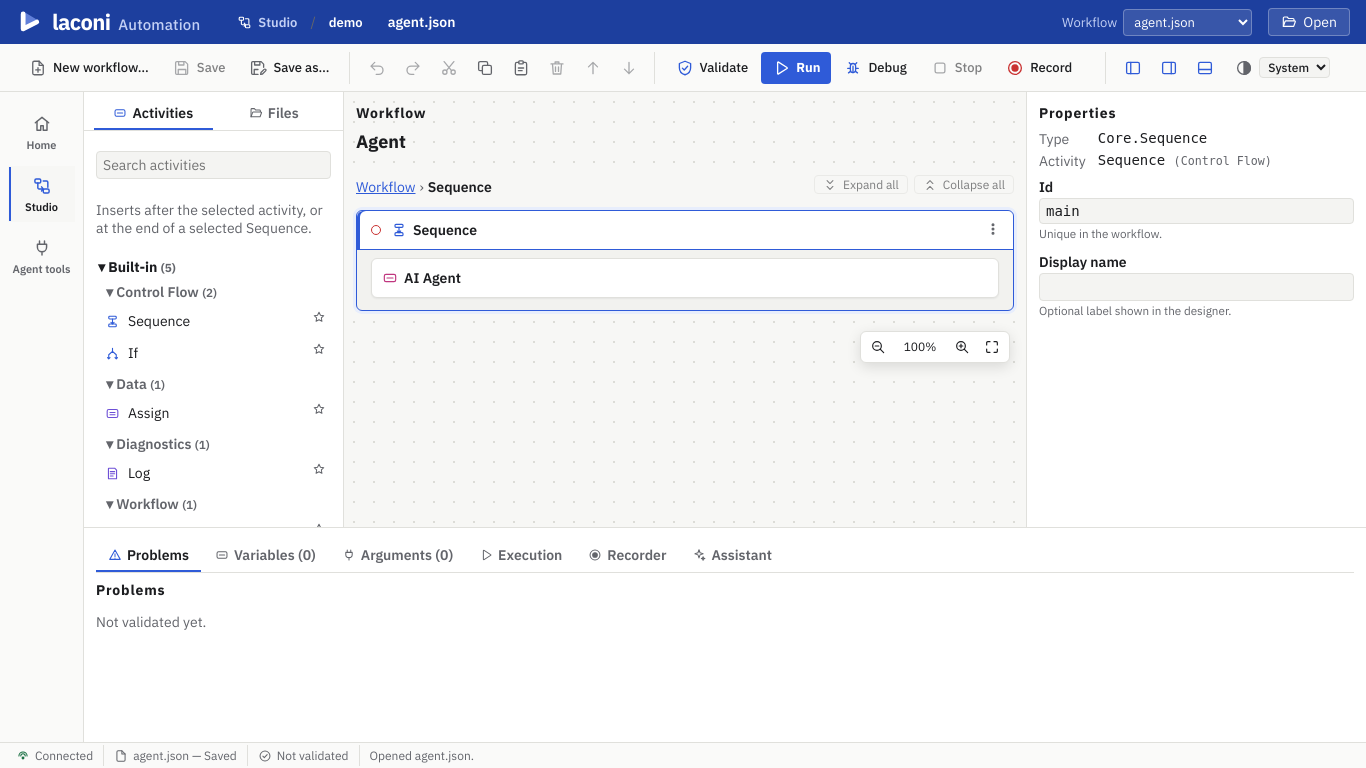
Test: Agent tools picker › does not add the same entry twice
The width and height of the screenshot is (1366, 768).
Click the element with class "node" showing "AI Agent".
click(685, 278)  # box [371,258,999,298]
(page scrolled)
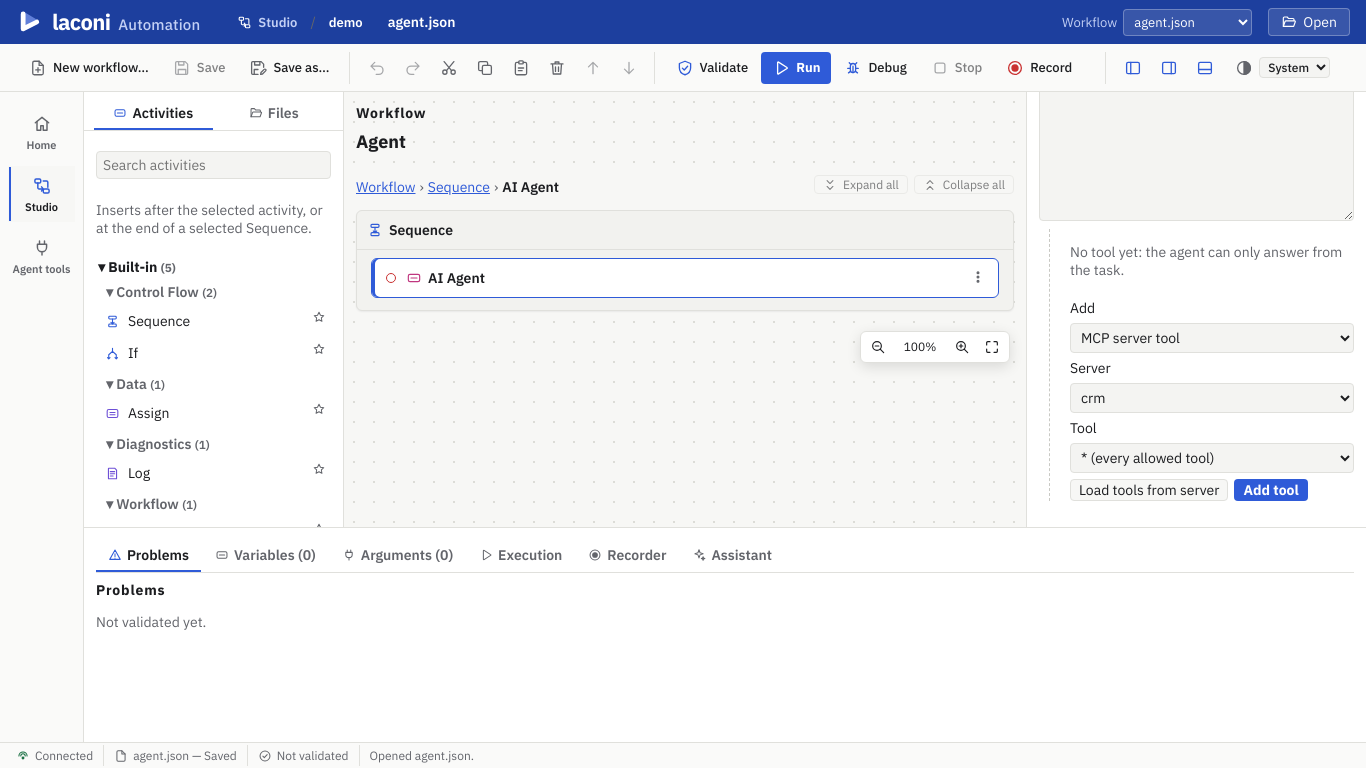
Click the button "Add tool".
click(1271, 490)  # box [1234,479,1308,501]
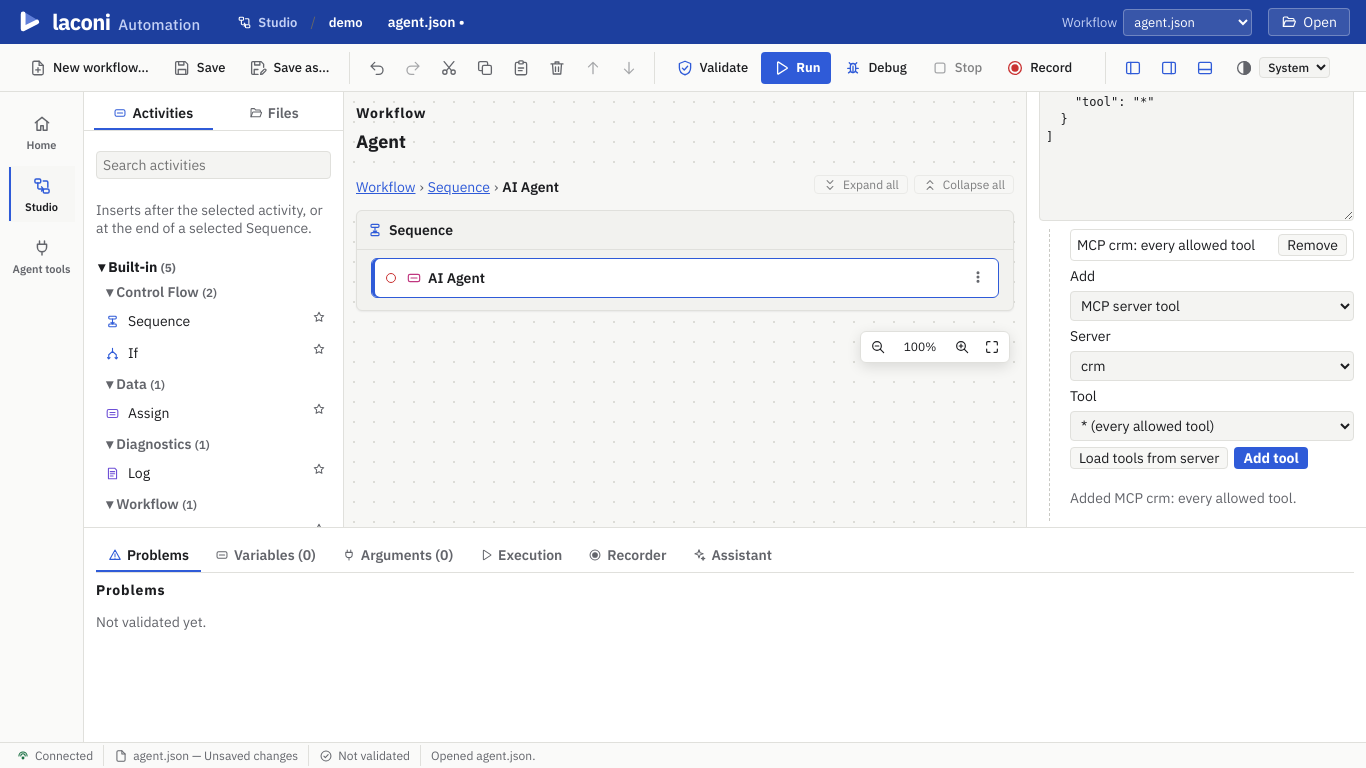
Click the button "Add tool".
click(1271, 458)  # box [1234,447,1308,469]
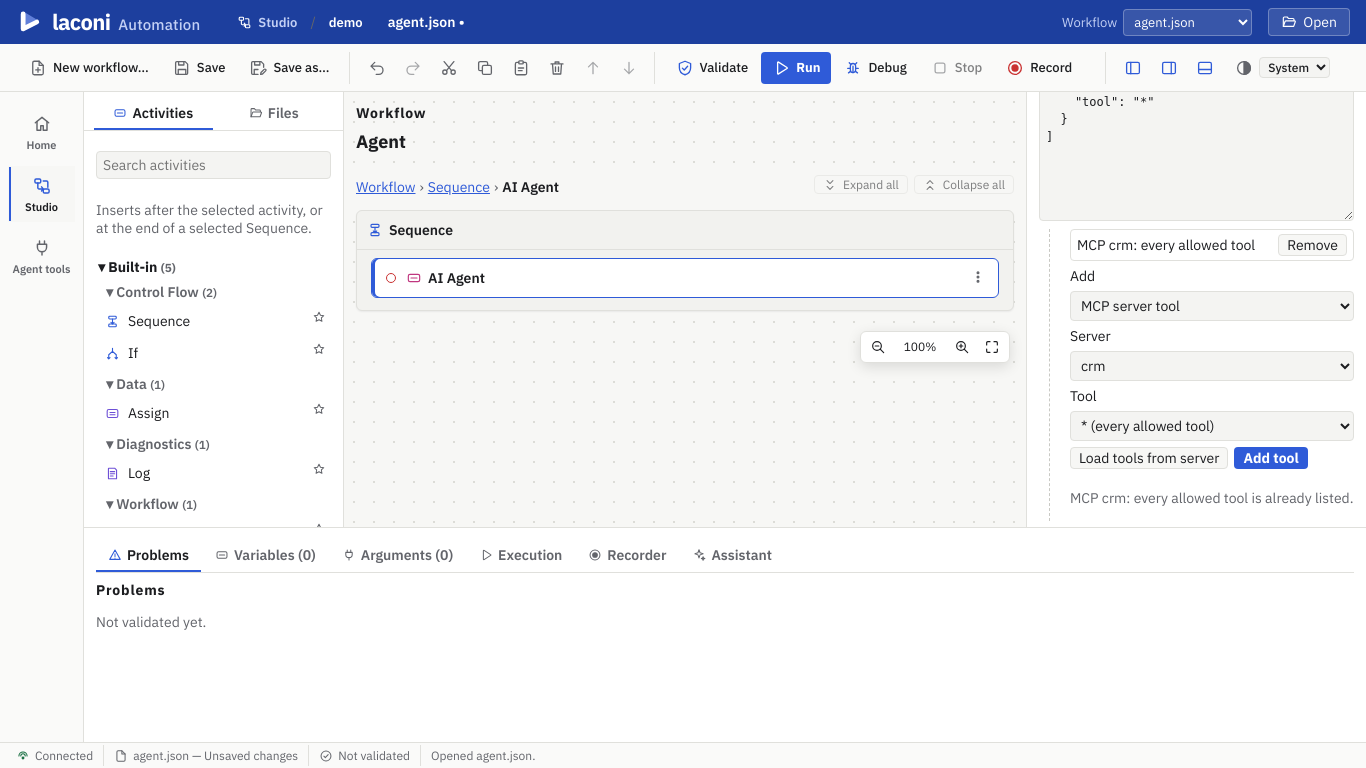
Expected: the message "MCP crm: every allowed tool is already listed." is shown, [1070,489,1354,507]
